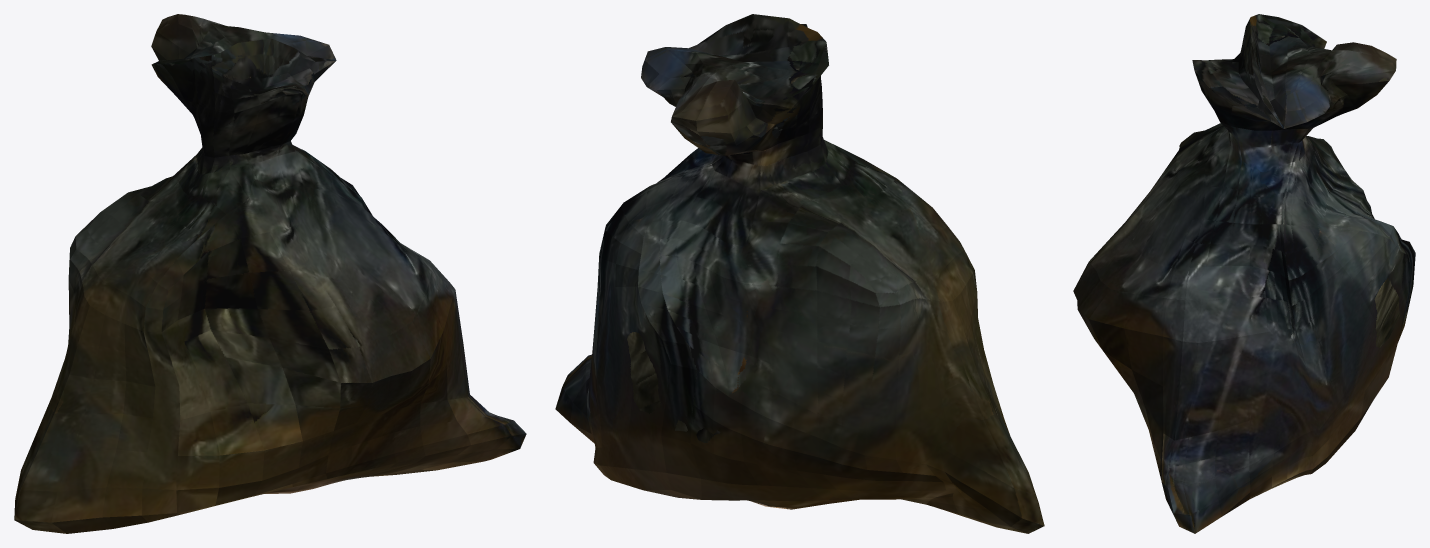
The model's file is Soppåse.fbx.
3 views of the same model, side by side, from view 1: azimuth 30°, elevation 25°; view 2: azimuth 150°, elevation 25°; view 3: azimuth 270°, elevation 25° (orthographic). The views are drawn at different scales.
Visible parts, largest first — view 1: Cube; view 2: Cube; view 3: Cube.
Part boxes in pixels (bbox=[...]): Cube: bbox=[14, 14, 526, 533]; Cube: bbox=[555, 14, 1044, 533]; Cube: bbox=[1073, 14, 1415, 533].
Size of the model in its own units: 34.55 by 30.94 by 23.74.
